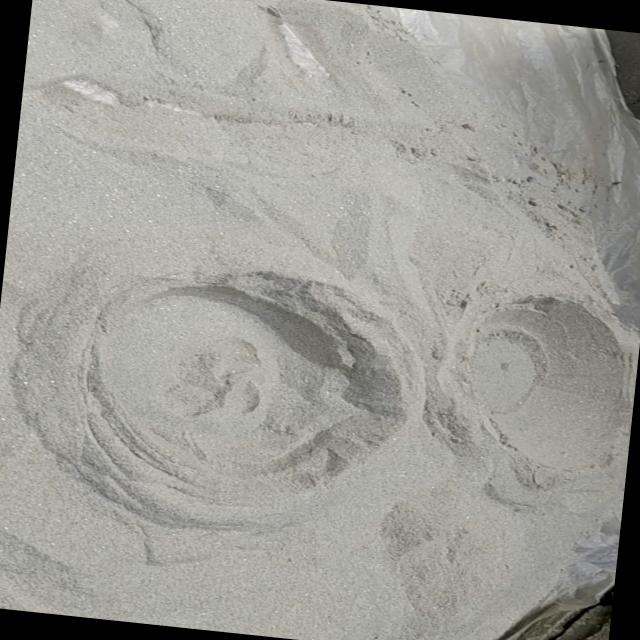C20: (89, 285, 382, 503), (470, 296, 631, 482)
